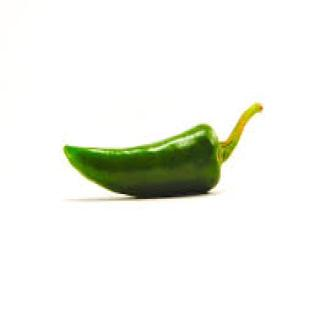Cabai Hijau: (57, 111, 274, 203)
